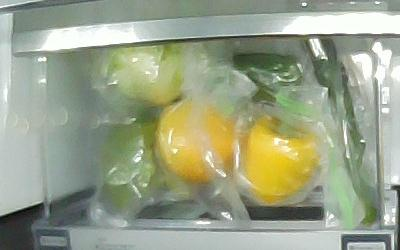broccoli_vinyl: (103, 122, 191, 208)
cucumber_vinyl: (303, 37, 380, 227)
grapefruit_vinyl: (156, 100, 240, 183)
lettuce_vinyl: (106, 43, 183, 106)
paprika_vinyl: (246, 115, 318, 207), (232, 53, 301, 103)
